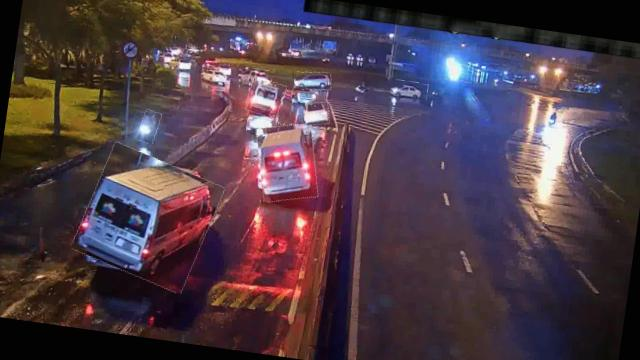Bike: (138, 109, 160, 144), (548, 108, 562, 128)
Bus: (72, 145, 222, 290), (251, 119, 323, 206), (244, 76, 286, 118)
Car: (246, 100, 278, 135), (294, 68, 332, 92), (393, 79, 428, 100), (302, 100, 330, 126), (244, 66, 272, 87), (200, 65, 227, 85)
